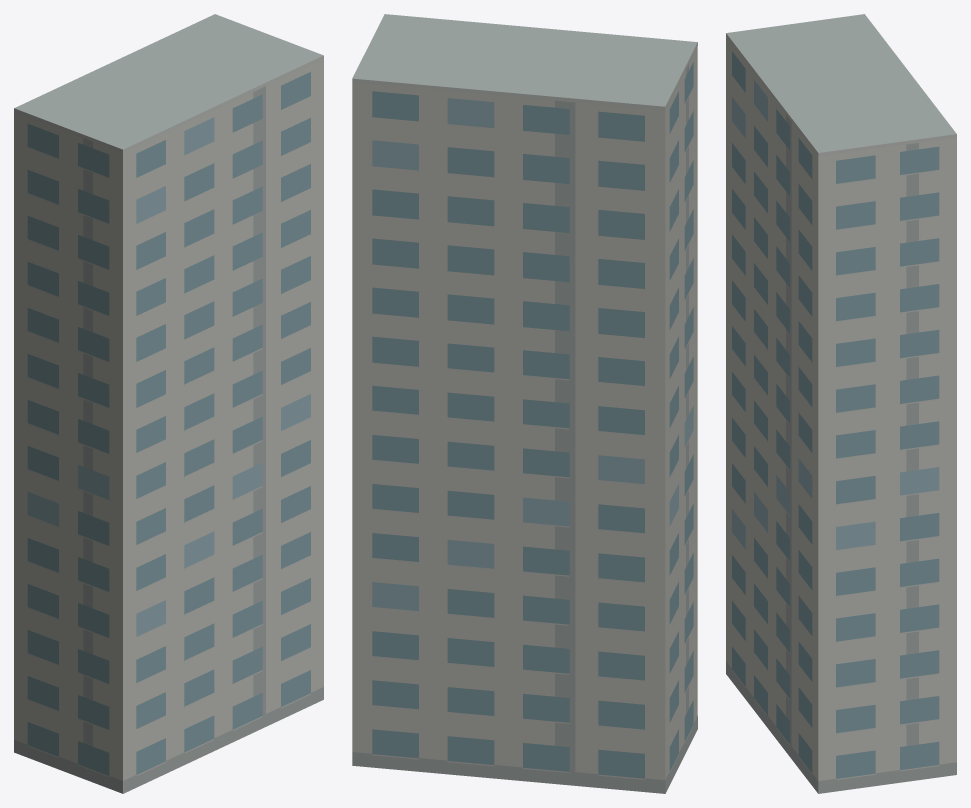
The model's file is residential-5c98a1b8-d63d-4a67-aa7f-684fd1df6c4e.glb.
The picture shows the model from 3 angles, left to right: view 1: azimuth 30°, elevation 25°; view 2: azimuth 150°, elevation 25°; view 3: azimuth 270°, elevation 25°; orthographic projection. The views are drawn at different scales.
Visible parts, largest first — view 1: residential-5c98a1b8-d63d-4a67-aa7f-684fd1df6c4e.tmp; view 2: residential-5c98a1b8-d63d-4a67-aa7f-684fd1df6c4e.tmp; view 3: residential-5c98a1b8-d63d-4a67-aa7f-684fd1df6c4e.tmp.
Boxes of the visible parts, <box> form: residential-5c98a1b8-d63d-4a67-aa7f-684fd1df6c4e.tmp: <box>14,14,323,793</box>; residential-5c98a1b8-d63d-4a67-aa7f-684fd1df6c4e.tmp: <box>352,14,697,793</box>; residential-5c98a1b8-d63d-4a67-aa7f-684fd1df6c4e.tmp: <box>726,14,956,793</box>.
Bounding box in the file's own units: 20.48 × 44 × 14.37.
